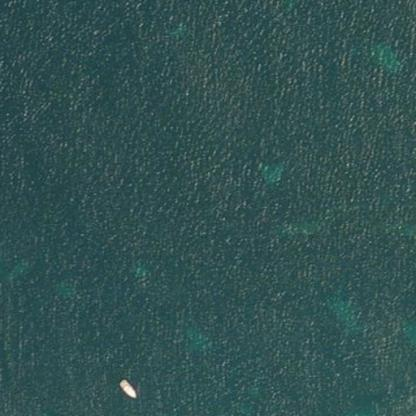ship: (125, 378, 129, 400)
